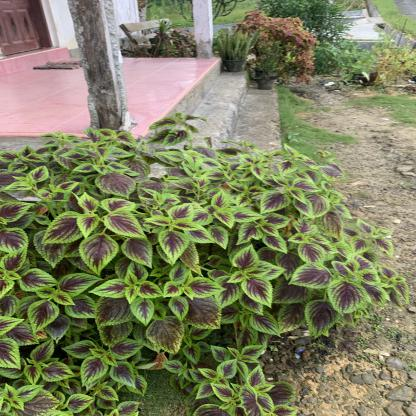Bunga Coleus: (26, 143, 338, 372)
